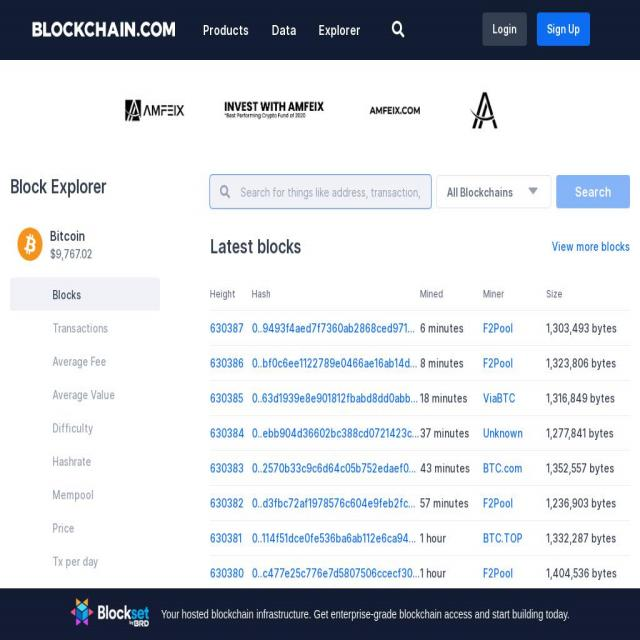list: (207, 275, 640, 591)
login-option: (480, 3, 525, 50)
navigation-links: (24, 275, 170, 590), (201, 20, 364, 52)
search: (7, 168, 638, 218), (385, 18, 414, 45)
sign-up-option: (534, 7, 594, 53)
